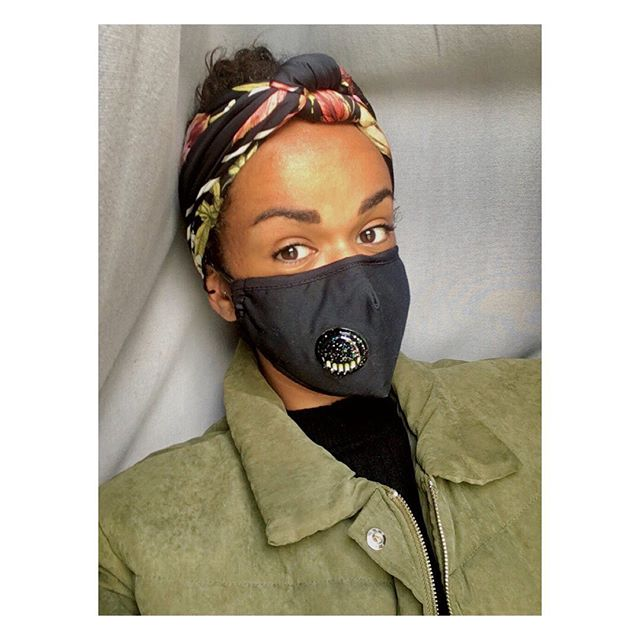homemade: (209, 264, 445, 404)
